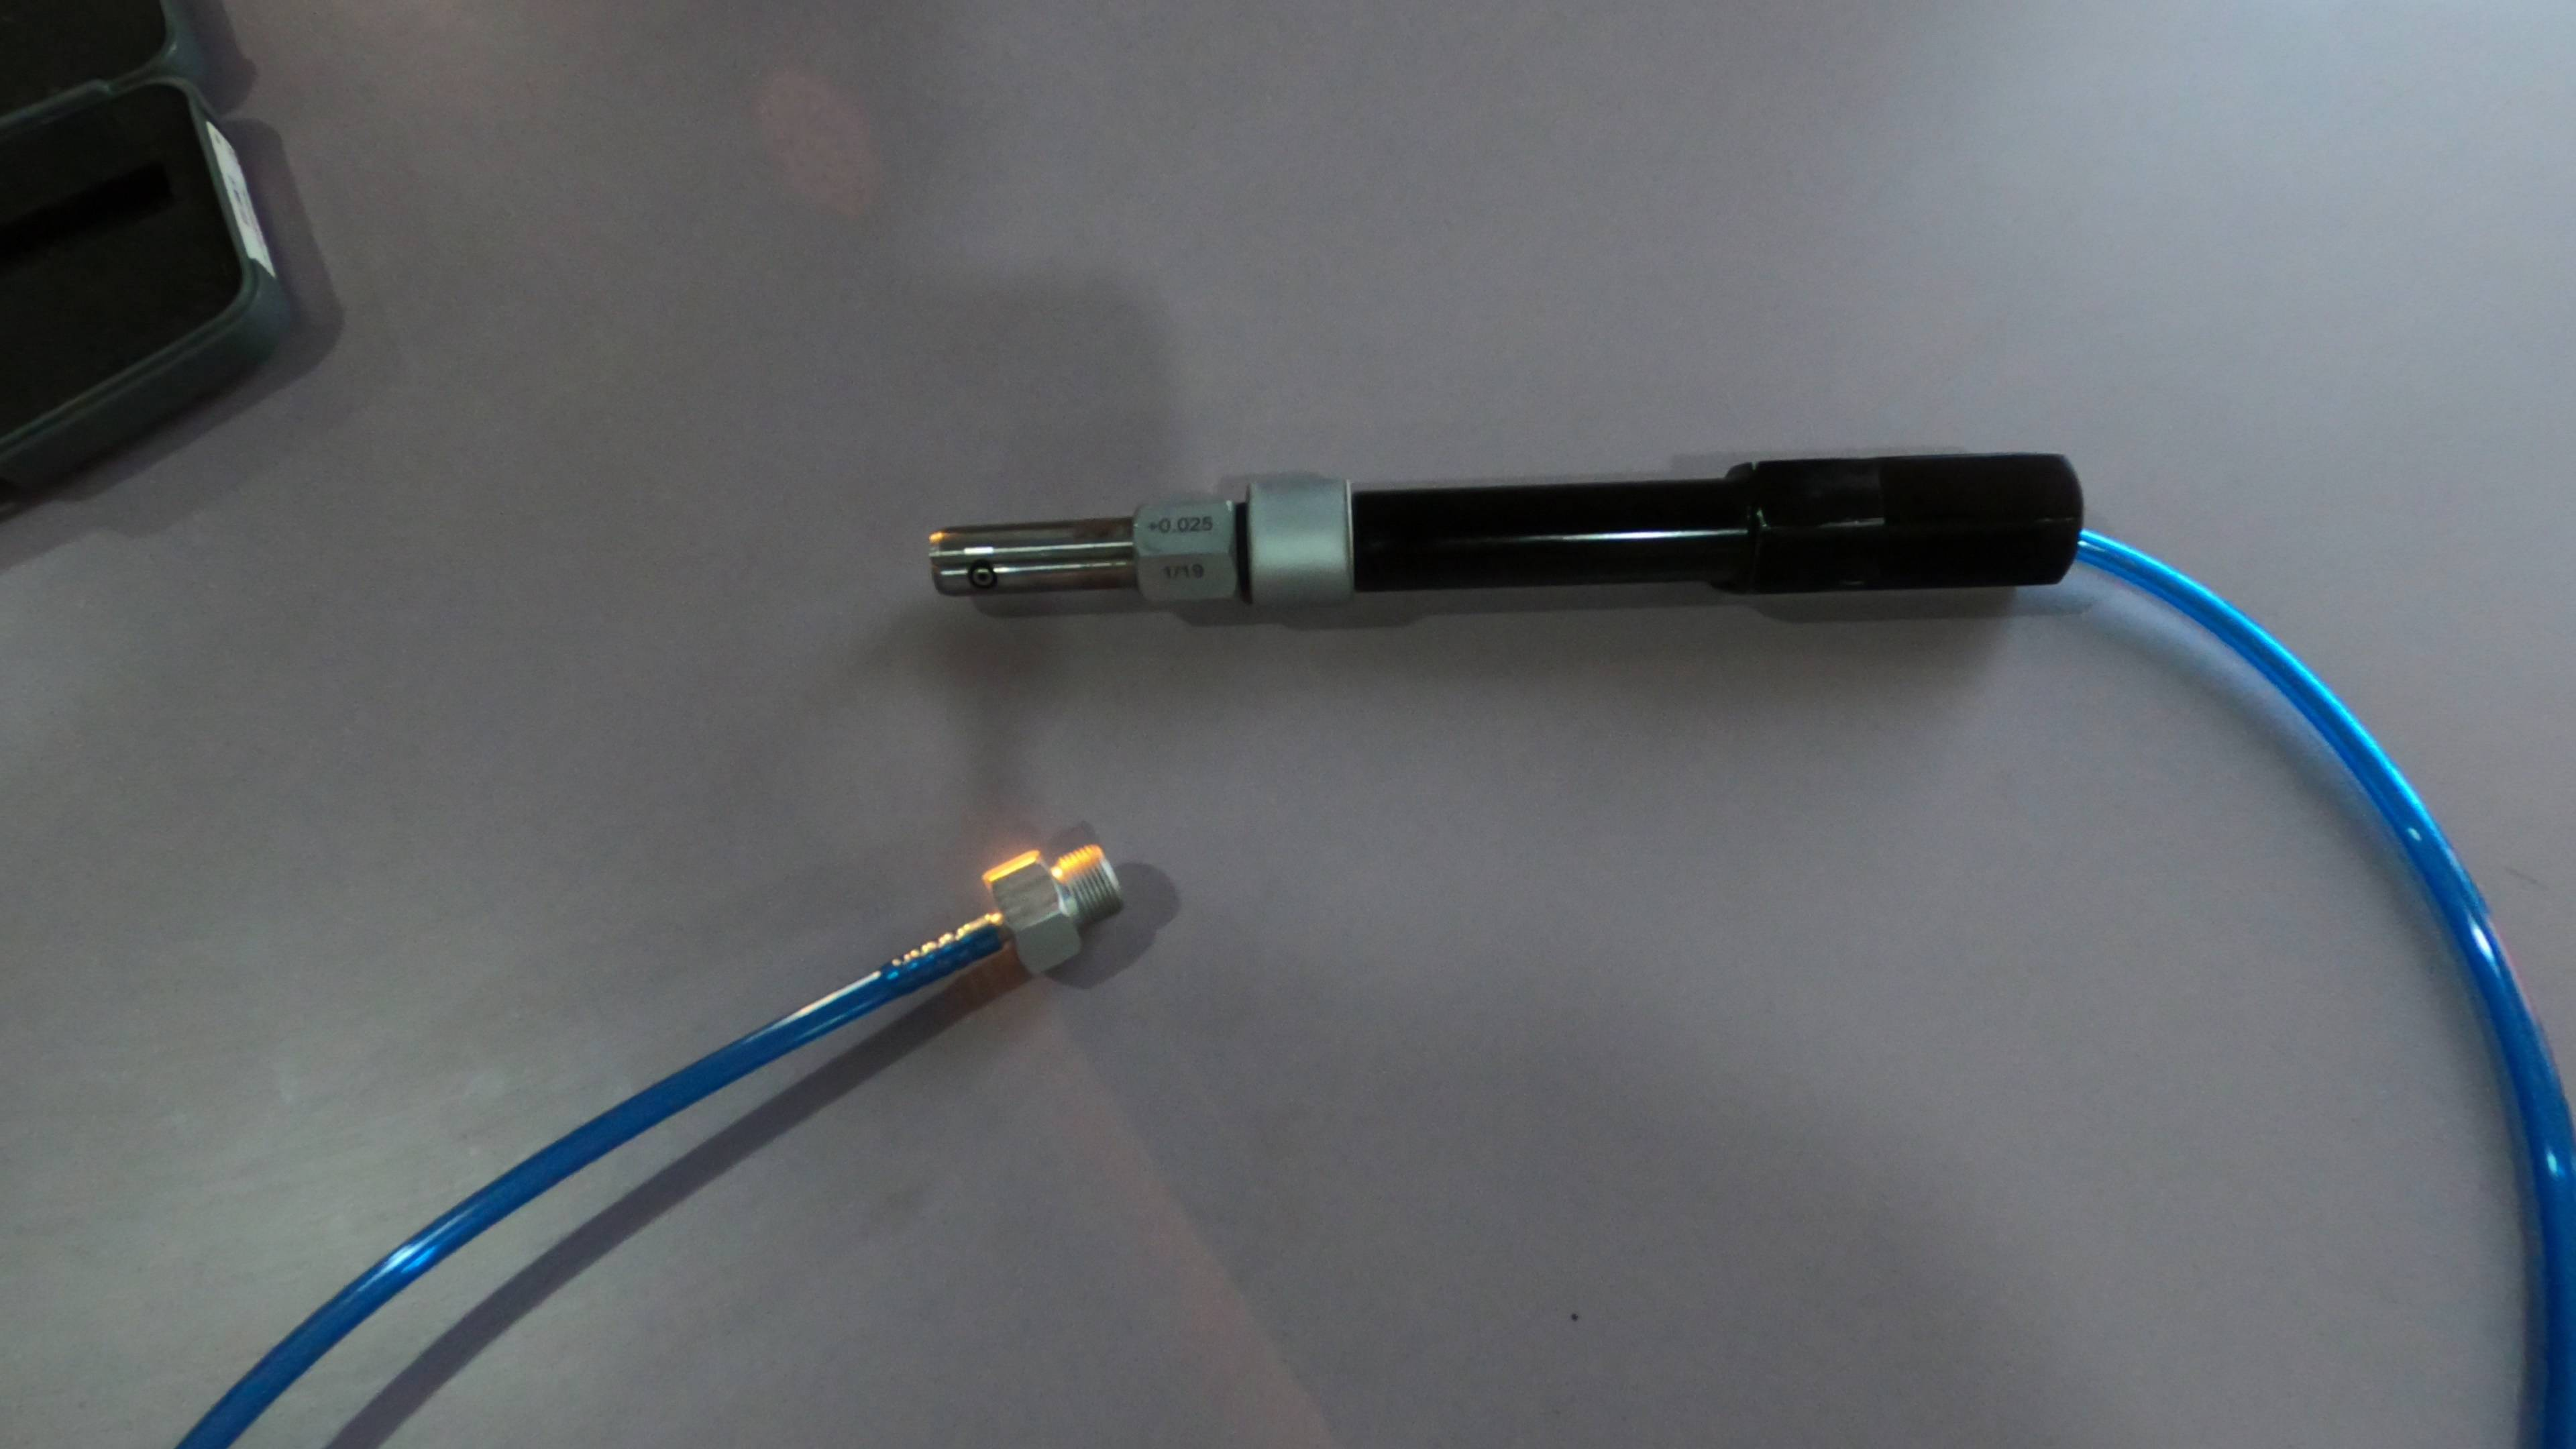air_gauge: (920, 448, 2102, 614)
